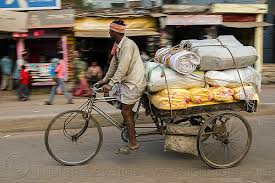handle bar: (86, 80, 107, 99)
wheel: (42, 110, 105, 171), (196, 107, 254, 172)
